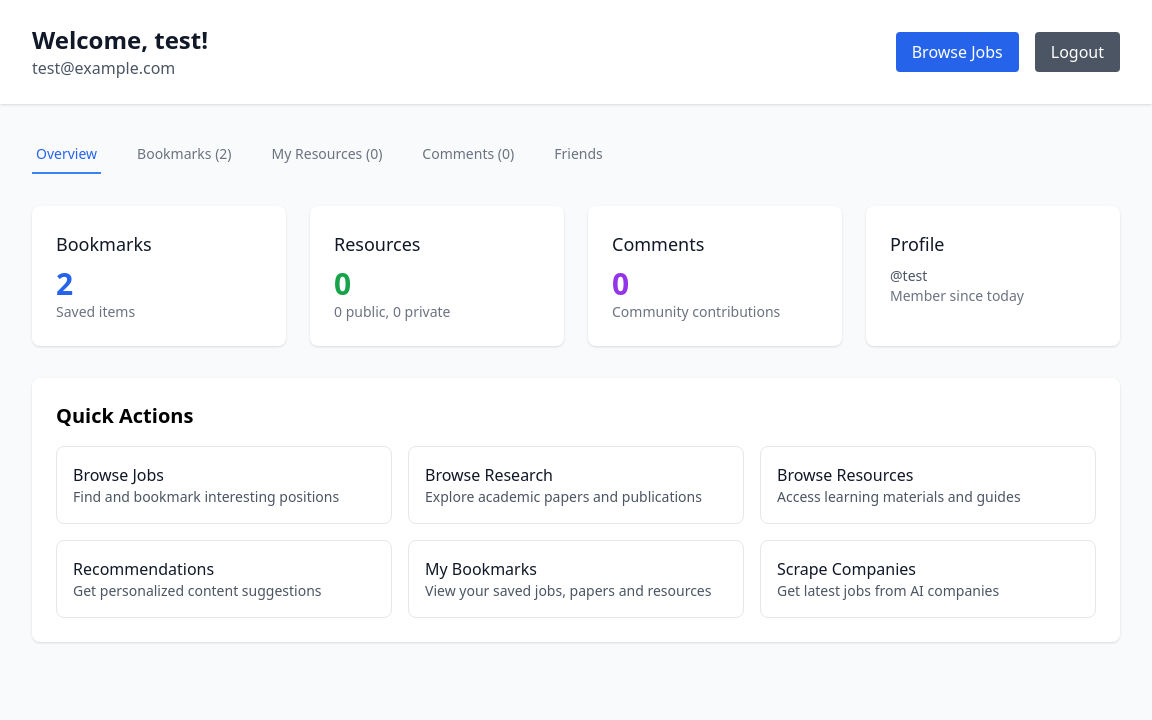
Dashboard Page › loads and displays bookmarks when bookmarks tab is active
# Click on bookmarks tab
Click the button "Bookmarks (2)": {"x": 184, "y": 155} [133, 136, 236, 174]
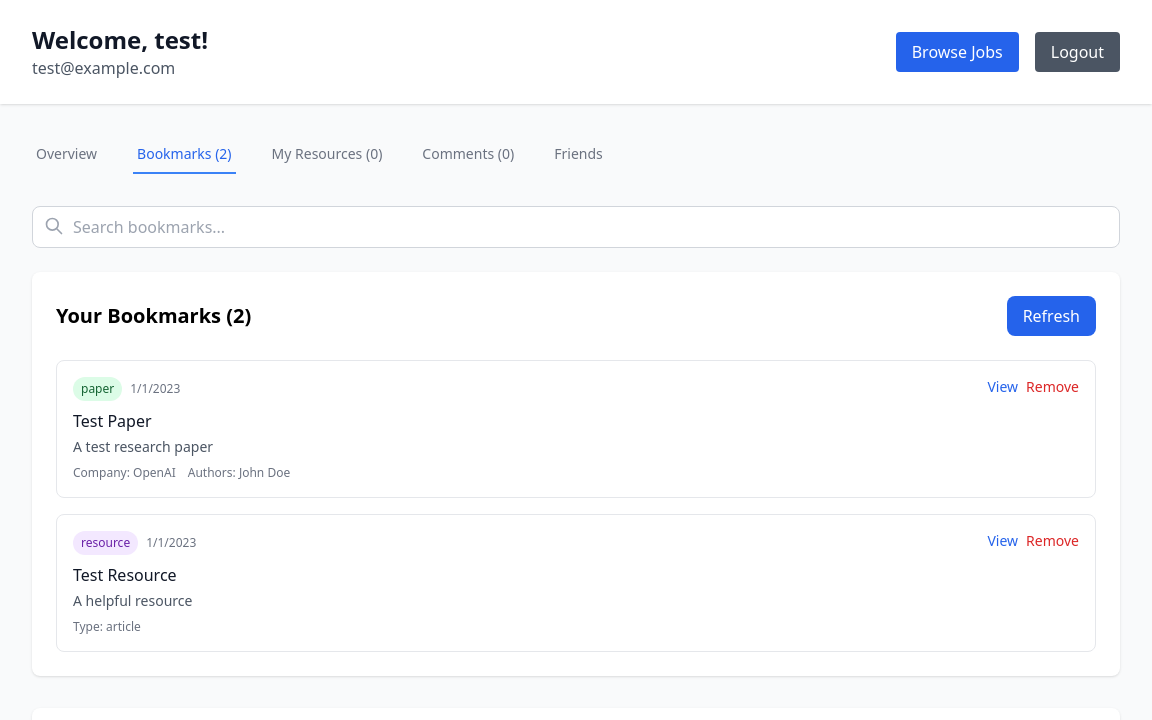
Expected: the heading "Test Paper" is shown, [73, 410, 152, 432]
Expected: the heading "Test Resource" is shown, [73, 564, 177, 586]
Expected: the text "A test research paper" is shown, [73, 437, 213, 456]
